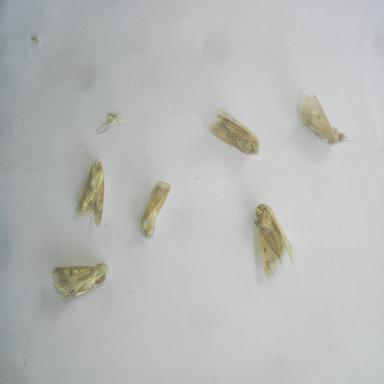abw: (252, 201, 298, 278), (50, 258, 110, 311), (298, 87, 349, 148), (206, 105, 262, 157), (74, 156, 107, 230), (138, 178, 173, 242)
